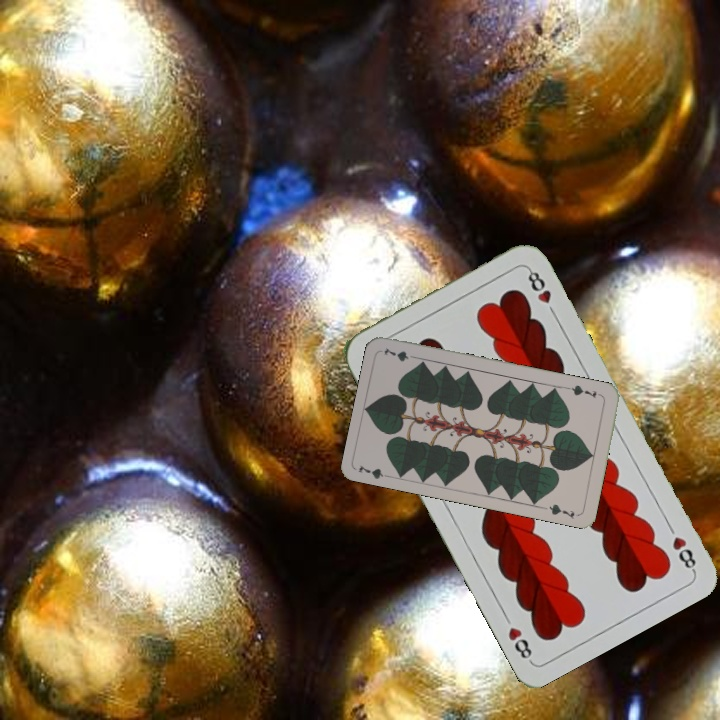G7: (355, 461, 395, 481), (564, 381, 599, 401)
H8: (668, 532, 699, 574)
